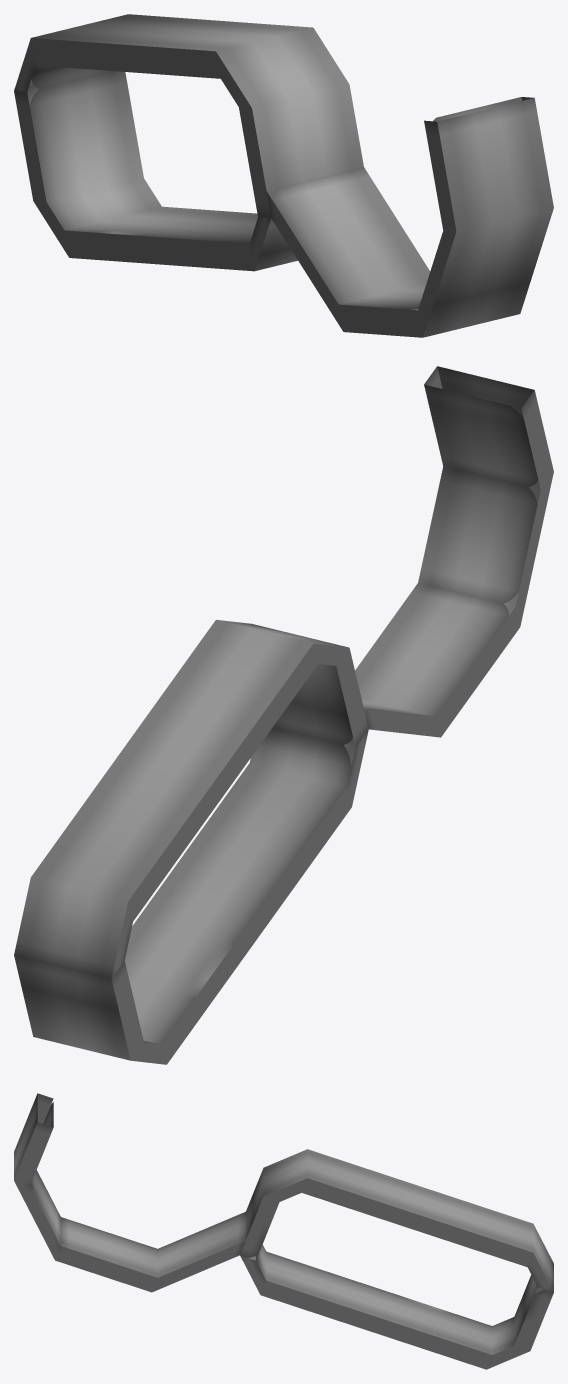
The model's file is henry_lever.obj.
The picture shows the model from 3 angles, top to bottom: view 1: azimuth 30°, elevation 25°; view 2: azimuth 150°, elevation 25°; view 3: azimuth 270°, elevation 25°; orthographic projection. The views are drawn at different scales.
Parts seen in each view (by area): view 1: Lever; view 2: Lever; view 3: Lever.
Part boxes in pixels (bbox=[...]): Lever: bbox=[14, 14, 553, 337]; Lever: bbox=[14, 366, 553, 1064]; Lever: bbox=[14, 1093, 553, 1369].
Bounding box in the file's own units: 0.25 × 0.9937 × 1.96.
